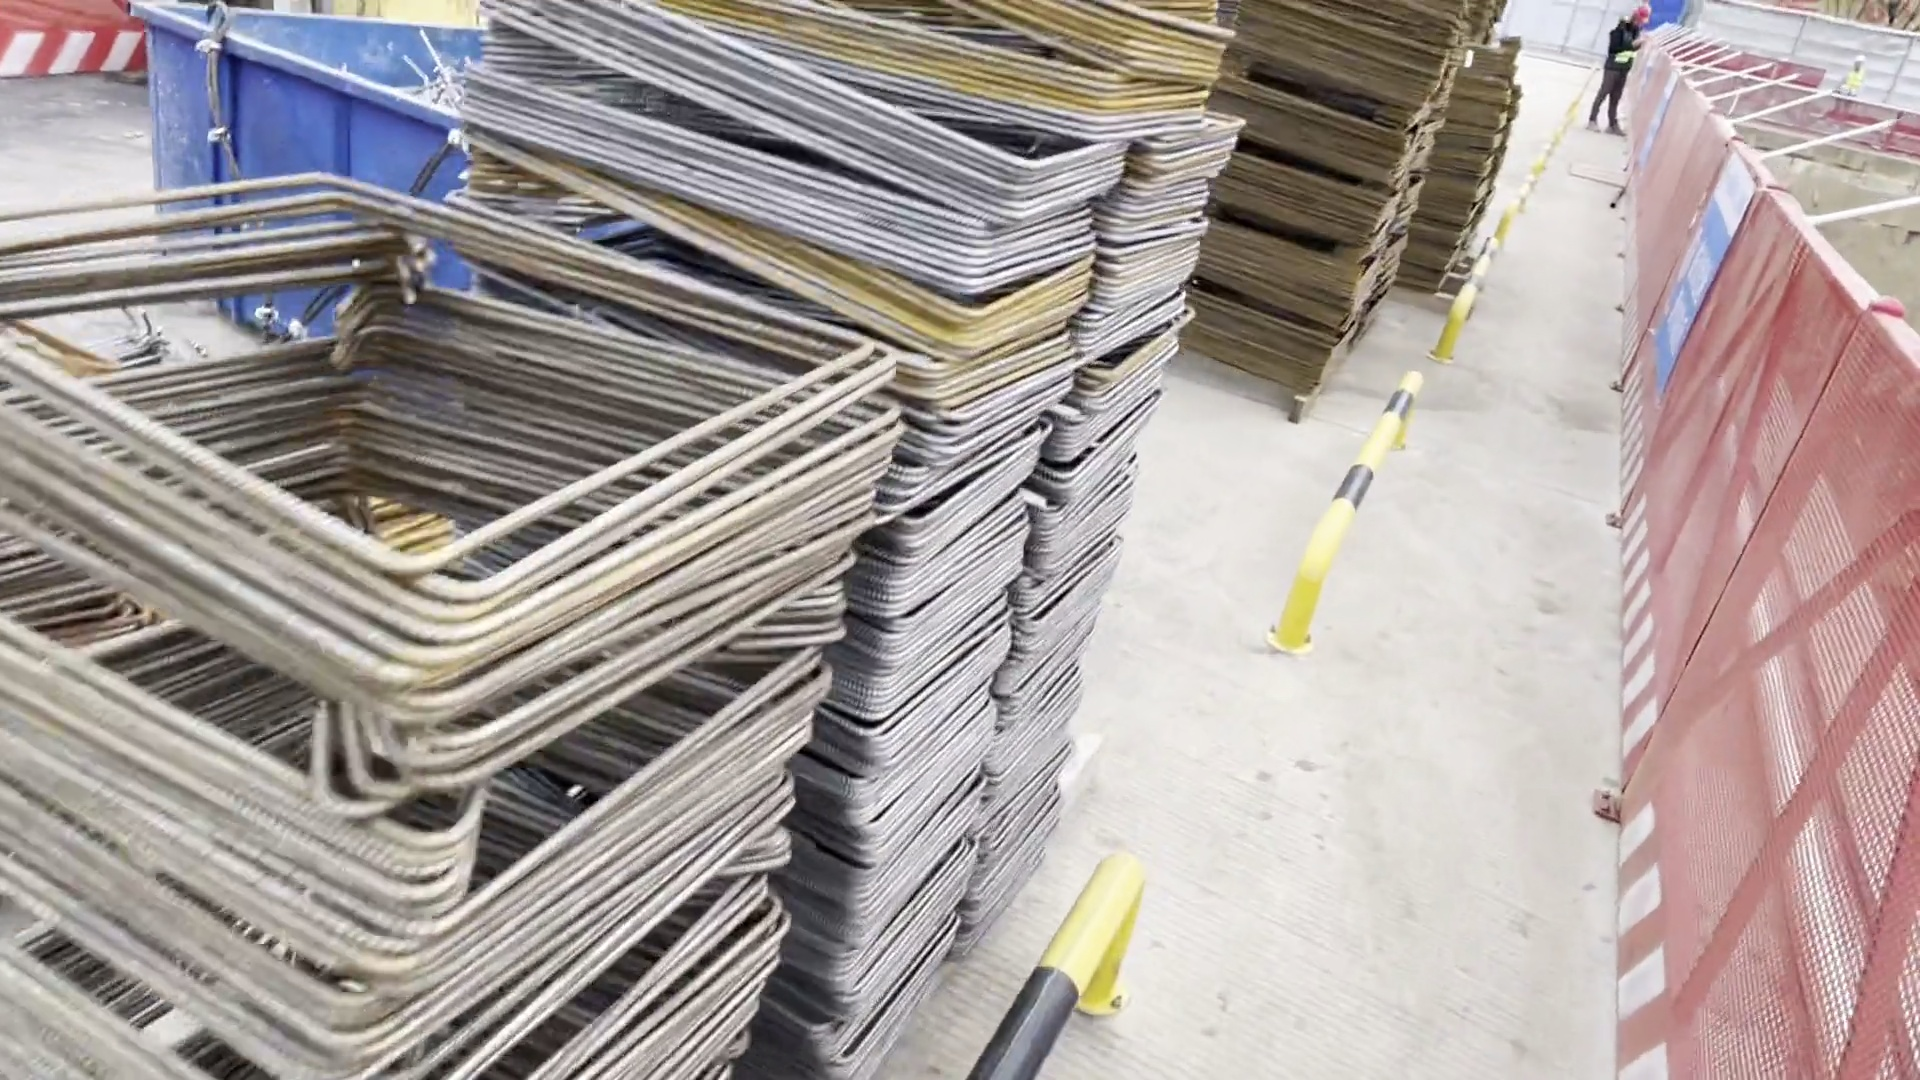fence: (1631, 63, 1920, 1033)
helmet: (1633, 12, 1648, 29)
hopper: (136, 3, 499, 296)
person: (1586, 9, 1649, 135), (1830, 55, 1862, 106)
slogan: (1658, 163, 1754, 379)
